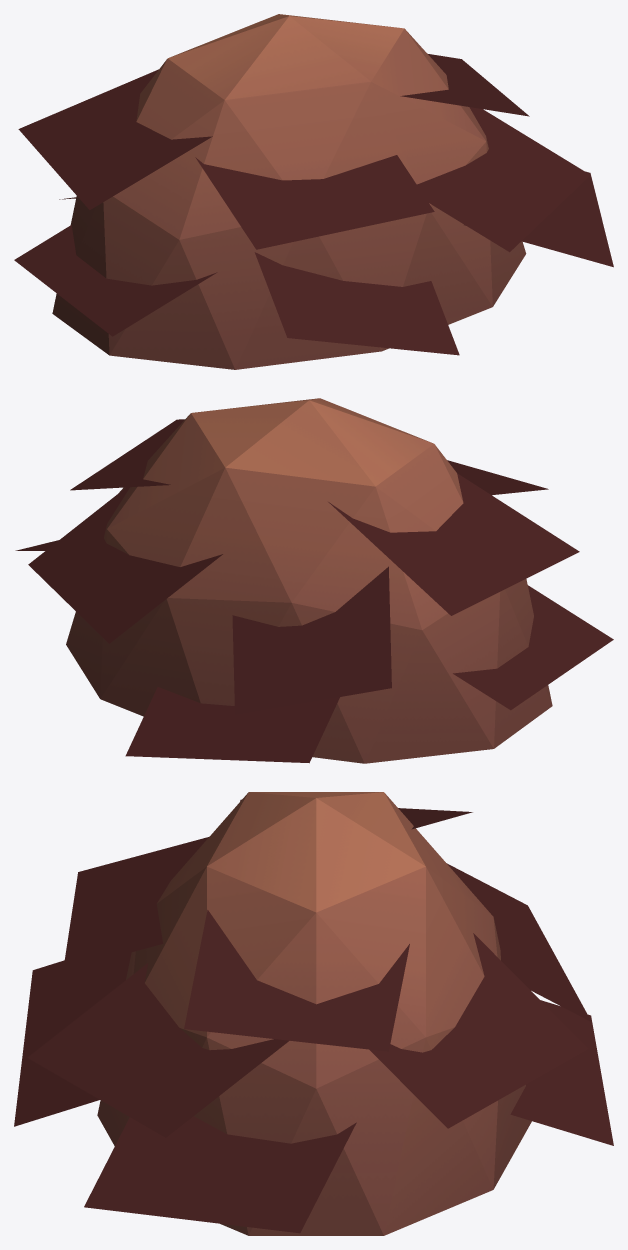
File: Bush.fbx
3 renders of one model, top to bottom at view 1: azimuth 30°, elevation 25°; view 2: azimuth 150°, elevation 25°; view 3: azimuth 270°, elevation 25°, orthographic. The views are drawn at different scales.
Parts seen in each view (by area): view 1: Bush, Plane, Plane.007, Plane.005, Plane.004, Plane.002, Plane.008, Plane.003; view 2: Bush, Plane.009, Plane.004, Plane.001, Plane.006, Plane.002, Plane.003, Plane; view 3: Bush, Plane.008, Plane.005, Plane.006, Plane.003, Plane, Plane.007, Plane.001, Plane.009, Plane.004.
Boxes of the visible parts, <box> form: Bush: <box>52,14,526,369</box>; Plane: <box>195,155,434,249</box>; Plane.007: <box>254,252,459,355</box>; Plane.005: <box>417,107,590,252</box>; Plane.004: <box>18,69,212,209</box>; Plane.002: <box>14,225,217,336</box>; Plane.008: <box>464,171,613,267</box>; Plane.003: <box>400,54,529,116</box>; Bush: <box>66,398,552,763</box>; Plane.009: <box>232,566,391,714</box>; Plane.004: <box>328,473,579,615</box>; Plane.001: <box>125,687,339,763</box>; Plane.006: <box>28,487,222,643</box>; Plane.002: <box>453,585,613,710</box>; Plane.003: <box>70,419,184,490</box>; Plane: <box>447,460,548,495</box>; Bush: <box>97,792,531,1235</box>; Plane.008: <box>84,1116,356,1233</box>; Plane.005: <box>27,963,289,1137</box>; Plane.006: <box>369,933,588,1128</box>; Plane.003: <box>184,910,409,1051</box>; Plane: <box>63,837,208,970</box>; Plane.007: <box>14,952,131,1126</box>; Plane.001: <box>510,1000,613,1145</box>; Plane.009: <box>446,863,591,1021</box>; Plane.004: <box>240,799,472,829</box>.
Size of the model in its own units: 134 by 64.45 by 110.
